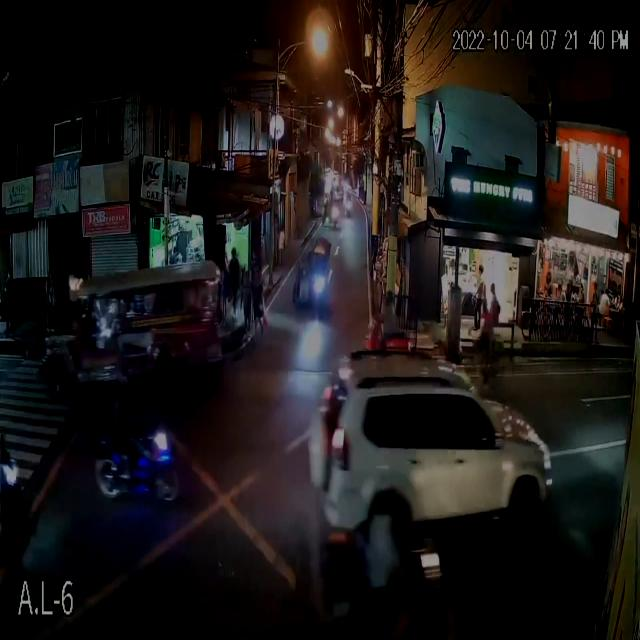Full-Faced: (386, 496, 418, 541), (114, 358, 133, 389)
